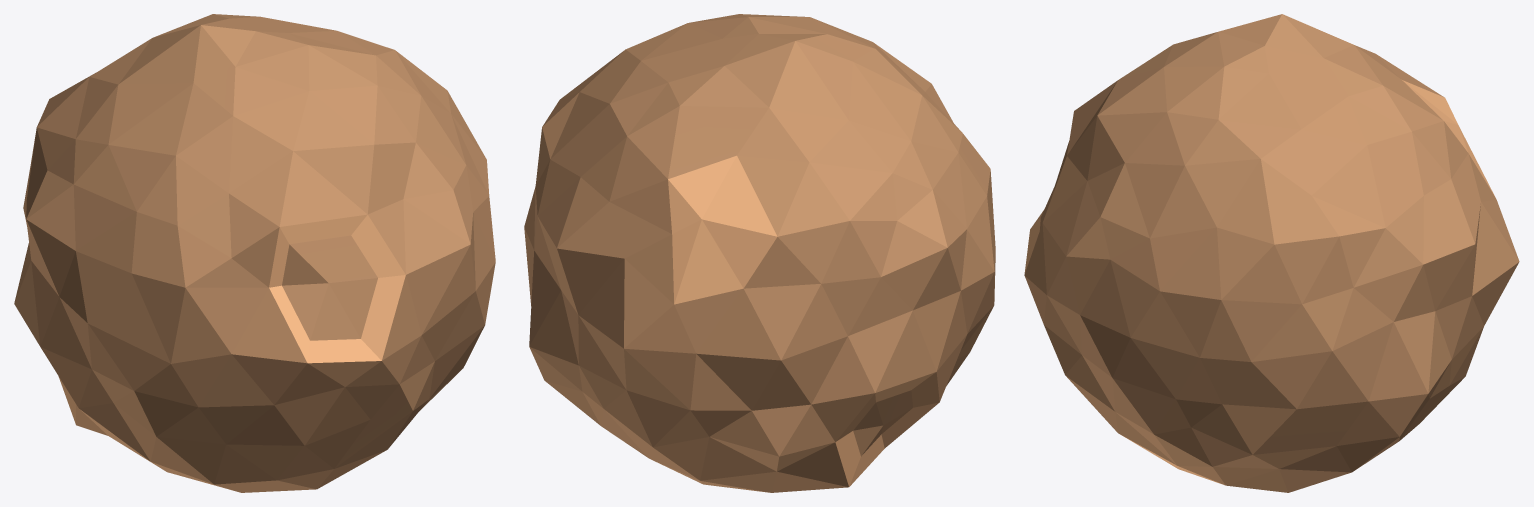
Rendered from Mercury.fbx.
The picture shows the model from 3 angles, left to right: view 1: azimuth 30°, elevation 25°; view 2: azimuth 150°, elevation 25°; view 3: azimuth 270°, elevation 25°; orthographic projection. The views are drawn at different scales.
Visible parts, largest first — view 1: Mercury; view 2: Mercury; view 3: Mercury.
Boxes of the visible parts, bbox=[...] form: Mercury: bbox=[14, 14, 495, 492]; Mercury: bbox=[524, 14, 995, 492]; Mercury: bbox=[1024, 14, 1519, 492].
Size of the model in its own units: 77.81 by 80.34 by 82.89.
